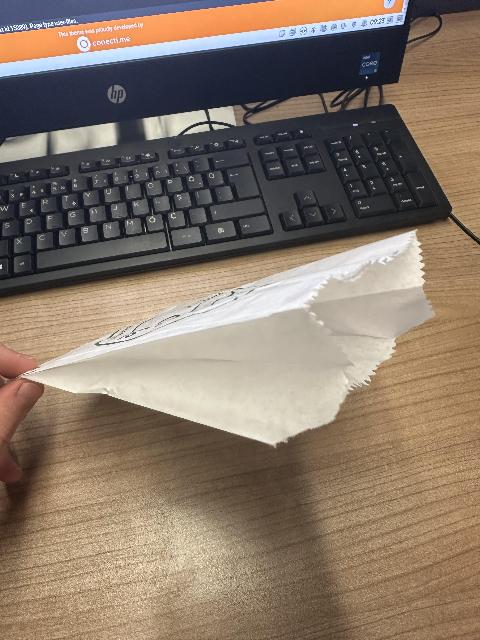Kagit: (16, 220, 444, 455)
